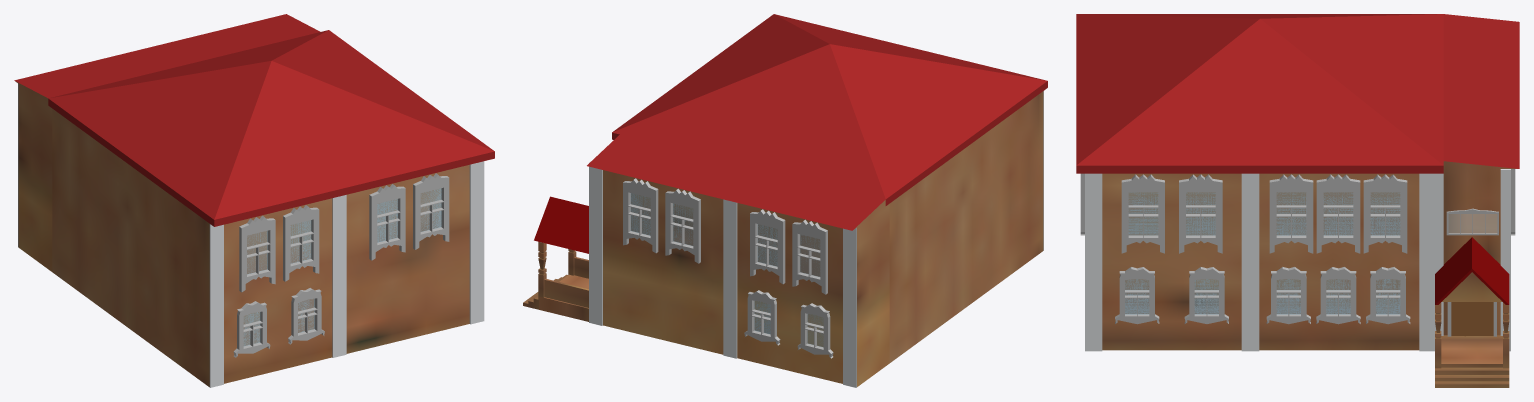
File: Museum.glb
3 renders of one model, left to right at view 1: azimuth 30°, elevation 25°; view 2: azimuth 150°, elevation 25°; view 3: azimuth 270°, elevation 25°, orthographic. The views are drawn at different scales.
Parts seen in each view (by area): view 1: Твердое тело1 (×7), Твердое тело13, Твердое тело2, Твердое тело4, Твердое тело12; view 2: Твердое тело13, Твердое тело2, Твердое тело1 (×7), Твердое тело4, Твердое тело12, Твердое тело5, Твердое тело6, Твердое тело9; view 3: Твердое тело13, Твердое тело1 (×11), Твердое тело2, Твердое тело3, Твердое тело11, Твердое тело5, Твердое тело6, Твердое тело9, Твердое тело7, Твердое тело8.
Boxes of the visible parts, x1=… form: Твердое тело1 (×7): x1=52, y1=109, x2=469, y2=386; Твердое тело13: x1=48, y1=30, x2=494, y2=226; Твердое тело2: x1=14, y1=14, x2=320, y2=271; Твердое тело4: x1=18, y1=83, x2=482, y2=387; Твердое тело12: x1=243, y1=188, x2=441, y2=346; Твердое тело13: x1=612, y1=14, x2=1047, y2=205; Твердое тело2: x1=587, y1=134, x2=889, y2=386; Твердое тело1 (×7): x1=623, y1=91, x2=1043, y2=362; Твердое тело4: x1=590, y1=91, x2=1043, y2=387; Твердое тело12: x1=630, y1=193, x2=823, y2=347; Твердое тело5: x1=534, y1=196, x2=588, y2=253; Твердое тело6: x1=539, y1=257, x2=588, y2=321; Твердое тело9: x1=538, y1=241, x2=576, y2=299; Твердое тело13: x1=1076, y1=14, x2=1443, y2=173; Твердое тело1 (×11): x1=1102, y1=173, x2=1419, y2=350; Твердое тело2: x1=1125, y1=14, x2=1519, y2=336; Твердое тело3: x1=1085, y1=173, x2=1436, y2=351; Твердое тело11: x1=1276, y1=192, x2=1400, y2=314; Твердое тело5: x1=1435, y1=237, x2=1509, y2=304; Твердое тело6: x1=1441, y1=335, x2=1502, y2=367; Твердое тело9: x1=1433, y1=173, x2=1509, y2=368; Твердое тело7: x1=1435, y1=367, x2=1509, y2=387; Твердое тело8: x1=1500, y1=169, x2=1510, y2=351.
Size of the model in its own units: 0.0251 by 0.0165 by 0.0255.
8 materials, 2 textured.
